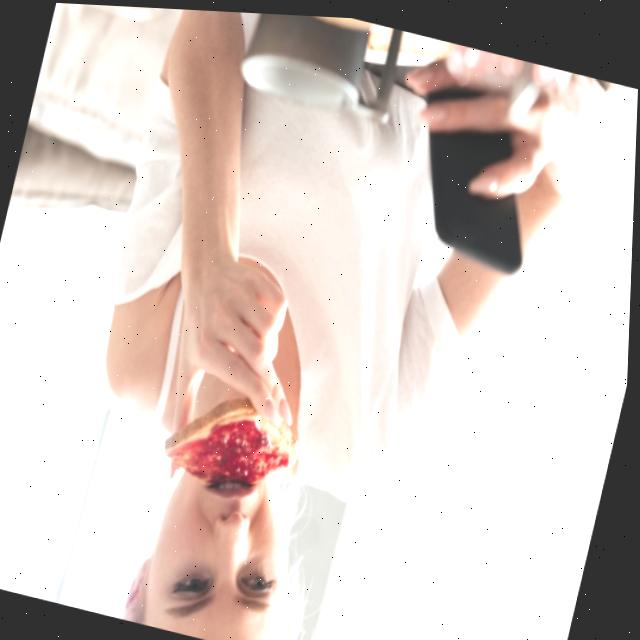eating-person: (13, 1, 628, 640)
